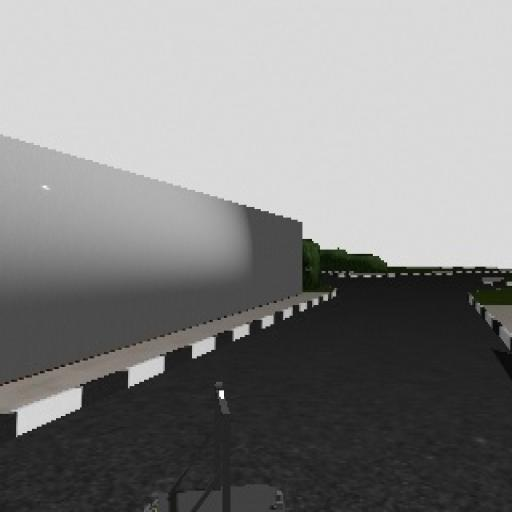huskya200: (130, 373, 296, 512)
